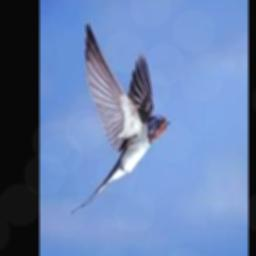Swallow: (70, 21, 169, 213)
